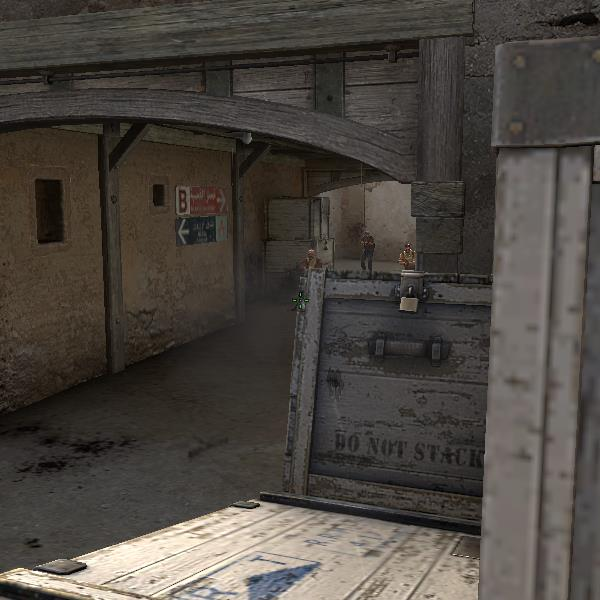t_body: (295, 246, 326, 268)
t_head: (303, 246, 318, 261)
